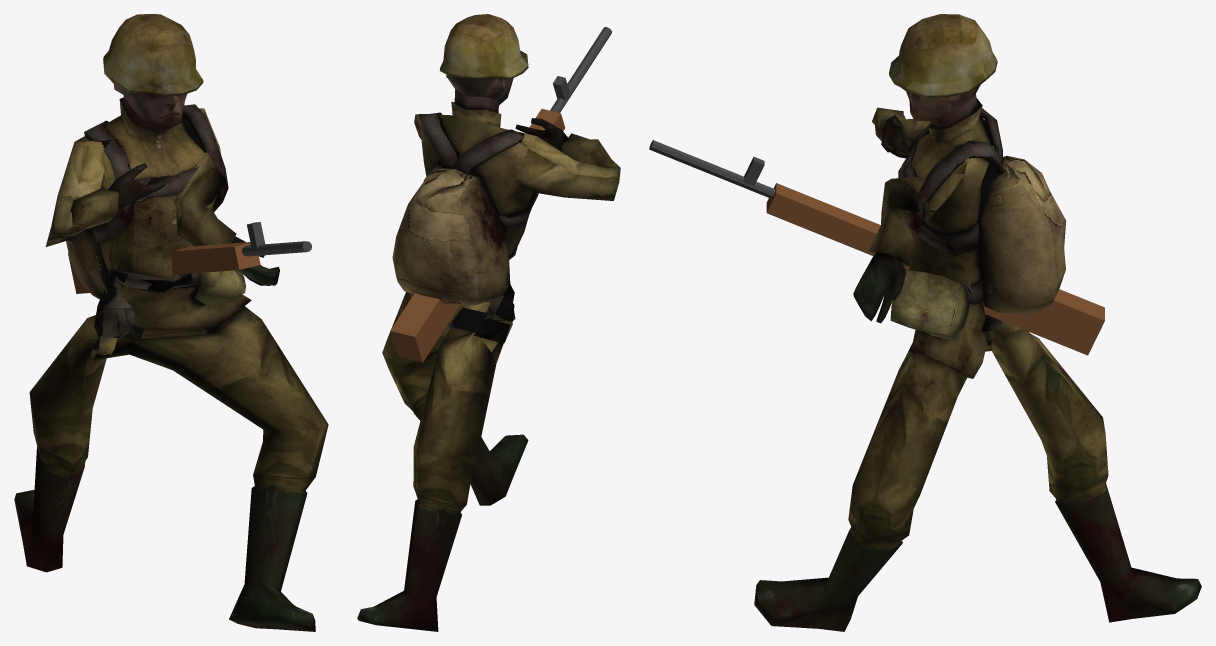
The model's file is soviet_ww2_soldier_run_01.glb.
3 renders of one model, left to right at view 1: azimuth 30°, elevation 25°; view 2: azimuth 150°, elevation 25°; view 3: azimuth 270°, elevation 25°, orthographic. The views are drawn at different scales.
Visible parts, largest first — view 1: final_Static, SovietRifle_Generated; view 2: final_Static, SovietRifle_Generated; view 3: final_Static, SovietRifle_Generated.
Boxes of the visible parts, box(x1,y1,x2,y2) form: final_Static: box(14, 14, 328, 631); SovietRifle_Generated: box(68, 222, 311, 293); final_Static: box(357, 14, 620, 631); SovietRifle_Generated: box(390, 27, 611, 362); final_Static: box(754, 14, 1201, 631); SovietRifle_Generated: box(649, 140, 1104, 355).
Size of the model in its own units: 0.777 by 1.69 by 1.39.
3 materials, 1 textured.
